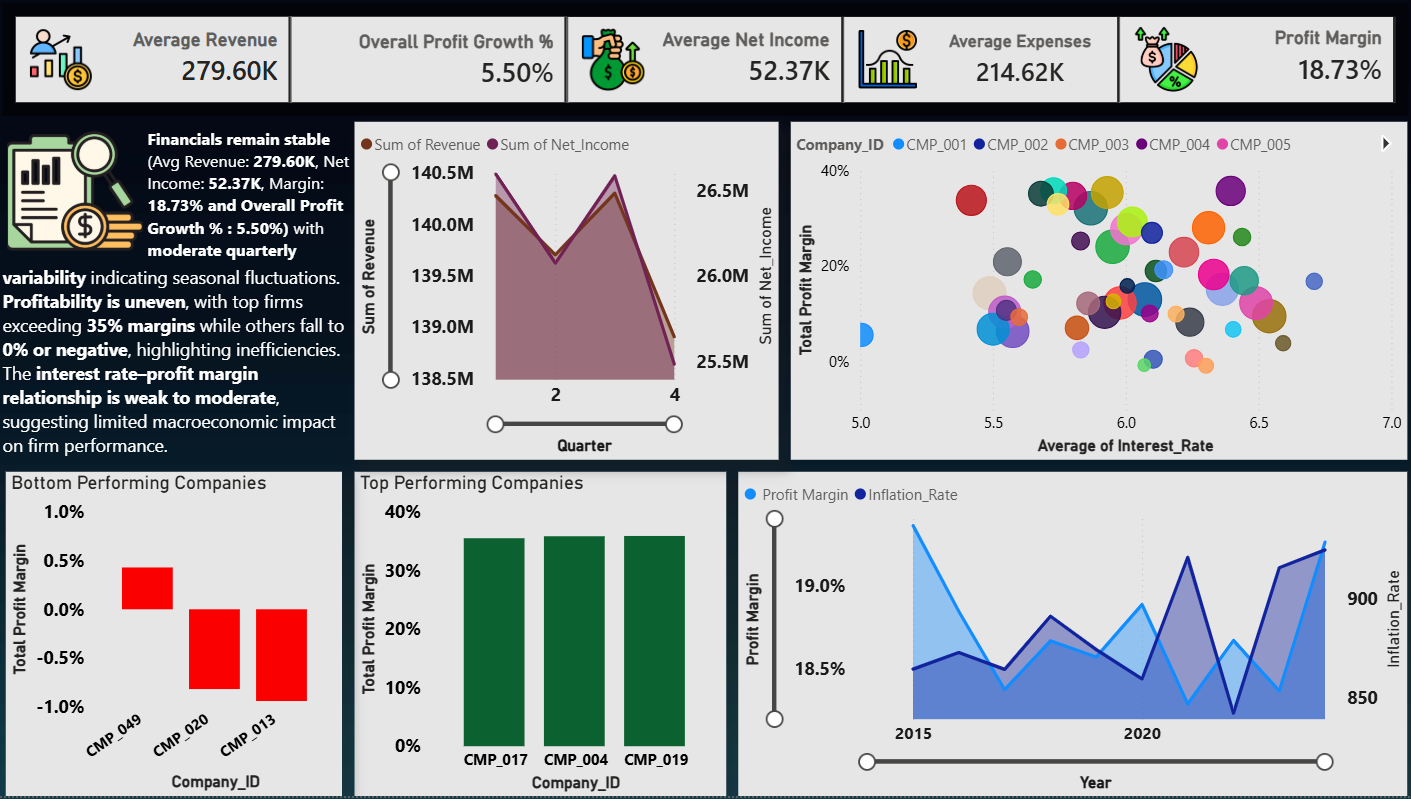

The dashboard page shown, as its layout file describes it:
{"tool":"powerbi","page":{"name":"Page 1","canvas":[1280,720],"ordinal":0},"visuals":[{"type":"cardVisual","fields":{"Data":["Avg(financialdataset.Revenue)","financialdataset.Profit Growth %","Avg(financialdataset.Net_Income)","Avg(financialdataset.Expenses)","financialdataset.Total Profit Margin"]},"box":[0,0,1280.3,111.3],"z":0},{"type":"clusteredColumnChart","title":"Top Performing Companies","fields":{"Y":["financialdataset.Profit Margin"],"Category":["financialdataset.Company_ID"]},"box":[322.8,426.8,335.1,293.5],"z":1000},{"type":"clusteredColumnChart","title":"Bottom Performing Companies","fields":{"Y":["financialdataset.Profit Margin"],"Category":["financialdataset.Company_ID"]},"box":[8.1,426.7,303.5,293],"z":2000},{"type":"lineChart","fields":{"Y2":["Sum(financialdataset.Inflation_Rate)"],"Y":["financialdataset.Total Profit Margin"],"Category":["financialdataset.Year"]},"box":[668.6,426.7,603.5,293],"z":3000},{"type":"lineChart","fields":{"Category":["financialdataset.Quarter"],"Y":["Sum(financialdataset.Revenue)"],"Y2":["Sum(financialdataset.Net_Income)"]},"box":[322.8,111.3,382.7,304.5],"z":4000},{"type":"scatterChart","fields":{"X":["Avg(financialdataset.Interest_Rate)"],"Y":["financialdataset.Total Profit Margin"],"Series":["financialdataset.Company_ID"],"Size":["Sum(financialdataset.Revenue)"]},"box":[716.3,111.6,555.8,304.7],"z":5000},{"type":"image","box":[8.6,111.3,122.3,124.7],"z":6000},{"type":"textbox","box":[130.8,111.3,192,135.7],"z":7000},{"type":"textbox","box":[0,236,322.8,199.3],"z":8000}]}

Visuals, with their boxes in screenshot pixels (x1, y1, x2, y2), scaled from the page's 1280x720 canvas onto the 1411x799 screenshot:
cardVisual - Avg(financialdataset.Revenue) x financialdataset.Profit Growth %: (x1=0, y1=0, x2=1410, y2=124)
"Top Performing Companies" clusteredColumnChart: (x1=356, y1=474, x2=725, y2=798)
"Bottom Performing Companies" clusteredColumnChart: (x1=9, y1=474, x2=343, y2=798)
lineChart - Sum(financialdataset.Inflation_Rate) x financialdataset.Total Profit Margin: (x1=737, y1=474, x2=1402, y2=798)
lineChart - financialdataset.Quarter x Sum(financialdataset.Revenue): (x1=356, y1=124, x2=778, y2=461)
scatterChart - Avg(financialdataset.Interest_Rate) x financialdataset.Total Profit Margin: (x1=790, y1=124, x2=1402, y2=462)
image: (x1=9, y1=124, x2=144, y2=262)
textbox: (x1=144, y1=124, x2=356, y2=274)
textbox: (x1=0, y1=262, x2=356, y2=483)
